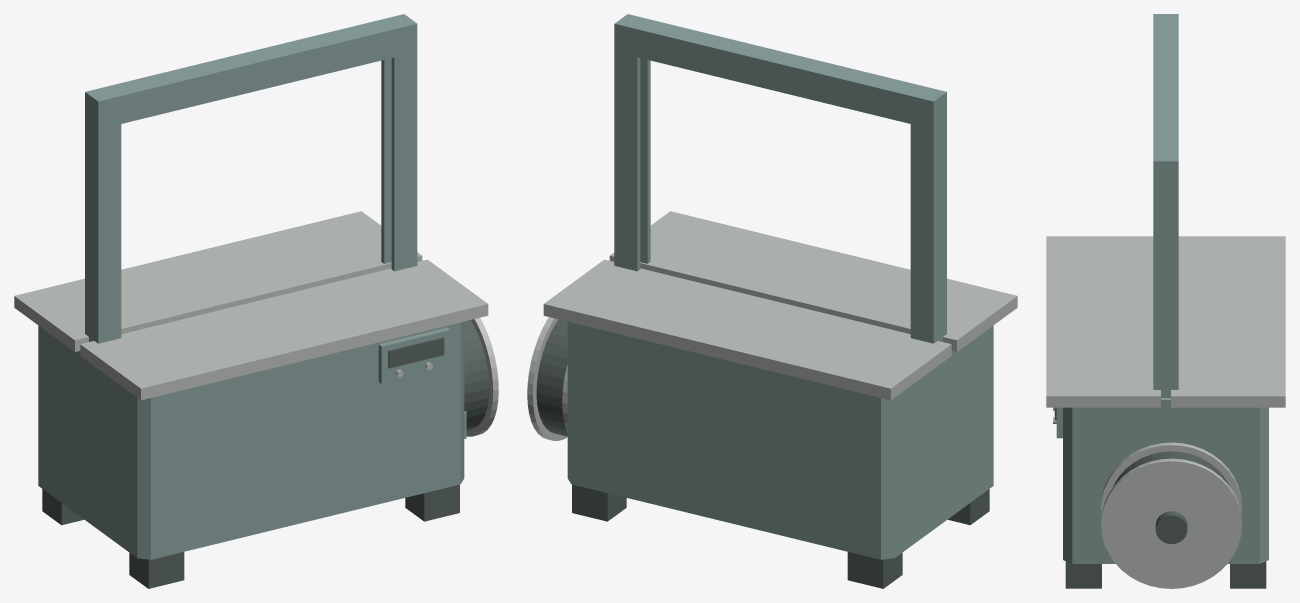
3 views of the same model, side by side, from view 1: azimuth 30°, elevation 25°; view 2: azimuth 150°, elevation 25°; view 3: azimuth 270°, elevation 25° (orthographic). The views are drawn at different scales.
Visible parts, largest first — view 1: WholeLowCabinetExterior, WholeContinuousInwardGroovedArch, WholeFrontTableHalf, WholeRearTableHalf, WholeOpaqueAnnularSupplyBand, WholeBlankControlHousing, WholeGroundFoot(-0.54, -0.295), WholeGroundFoot(0.54, -0.295), WholeBoredRetainingFlangeOuter, WholeOpaqueControlInset, WholeGroundFoot(-0.54, 0.295); view 2: WholeLowCabinetExterior, WholeContinuousInwardGroovedArch, WholeRearTableHalf, WholeFrontTableHalf, WholeOpaqueAnnularSupplyBand, WholeGroundFoot(-0.54, 0.295), WholeGroundFoot(0.54, 0.295), WholeBoredRetainingFlangeOuter, WholeGroundFoot(-0.54, -0.295); view 3: WholeFrontTableHalf, WholeRearTableHalf, WholeLowCabinetExterior, WholeBoredRetainingFlangeOuter, WholeContinuousInwardGroovedArch, WholeBoredRetainingFlangeInner, WholeGroundFoot(0.54, -0.295), WholeGroundFoot(0.54, 0.295), WholeOuterRetainingCap, WholeOpaqueAnnularSupplyBand.
Part boxes in pixels (x1=…): WholeLowCabinetExterior: x1=38, y1=321, x2=464, y2=559; WholeContinuousInwardGroovedArch: x1=85, y1=14, x2=417, y2=343; WholeFrontTableHalf: x1=80, y1=259, x2=488, y2=400; WholeRearTableHalf: x1=14, y1=211, x2=422, y2=351; WholeOpaqueAnnularSupplyBand: x1=464, y1=320, x2=489, y2=430; WholeBlankControlHousing: x1=378, y1=327, x2=450, y2=384; WholeGroundFoot(-0.54, -0.295): x1=129, y1=552, x2=184, y2=588; WholeGroundFoot(0.54, -0.295): x1=405, y1=484, x2=459, y2=521; WholeBoredRetainingFlangeOuter: x1=466, y1=318, x2=498, y2=436; WholeOpaqueControlInset: x1=388, y1=337, x2=444, y2=368; WholeGroundFoot(-0.54, 0.295): x1=42, y1=489, x2=83, y2=525; WholeLowCabinetExterior: x1=567, y1=321, x2=993, y2=559; WholeContinuousInwardGroovedArch: x1=614, y1=14, x2=946, y2=343; WholeRearTableHalf: x1=543, y1=259, x2=951, y2=400; WholeFrontTableHalf: x1=609, y1=211, x2=1017, y2=351; WholeOpaqueAnnularSupplyBand: x1=536, y1=319, x2=567, y2=436; WholeGroundFoot(-0.54, 0.295): x1=847, y1=552, x2=902, y2=588; WholeGroundFoot(0.54, 0.295): x1=572, y1=484, x2=626, y2=521; WholeBoredRetainingFlangeOuter: x1=527, y1=317, x2=567, y2=440; WholeGroundFoot(-0.54, -0.295): x1=948, y1=489, x2=989, y2=525; WholeFrontTableHalf: x1=1046, y1=236, x2=1160, y2=407; WholeRearTableHalf: x1=1171, y1=236, x2=1285, y2=407; WholeLowCabinetExterior: x1=1063, y1=398, x2=1268, y2=563; WholeBoredRetainingFlangeOuter: x1=1101, y1=458, x2=1241, y2=588; WholeContinuousInwardGroovedArch: x1=1153, y1=14, x2=1178, y2=397; WholeBoredRetainingFlangeInner: x1=1101, y1=442, x2=1241, y2=515; WholeGroundFoot(0.54, -0.295): x1=1065, y1=561, x2=1101, y2=588; WholeGroundFoot(0.54, 0.295): x1=1230, y1=561, x2=1266, y2=588; WholeOuterRetainingCap: x1=1155, y1=511, x2=1187, y2=544; WholeOpaqueAnnularSupplyBand: x1=1113, y1=451, x2=1229, y2=486.
Bounding box in the file's own units: 1.55 × 1.7 × 0.86.
